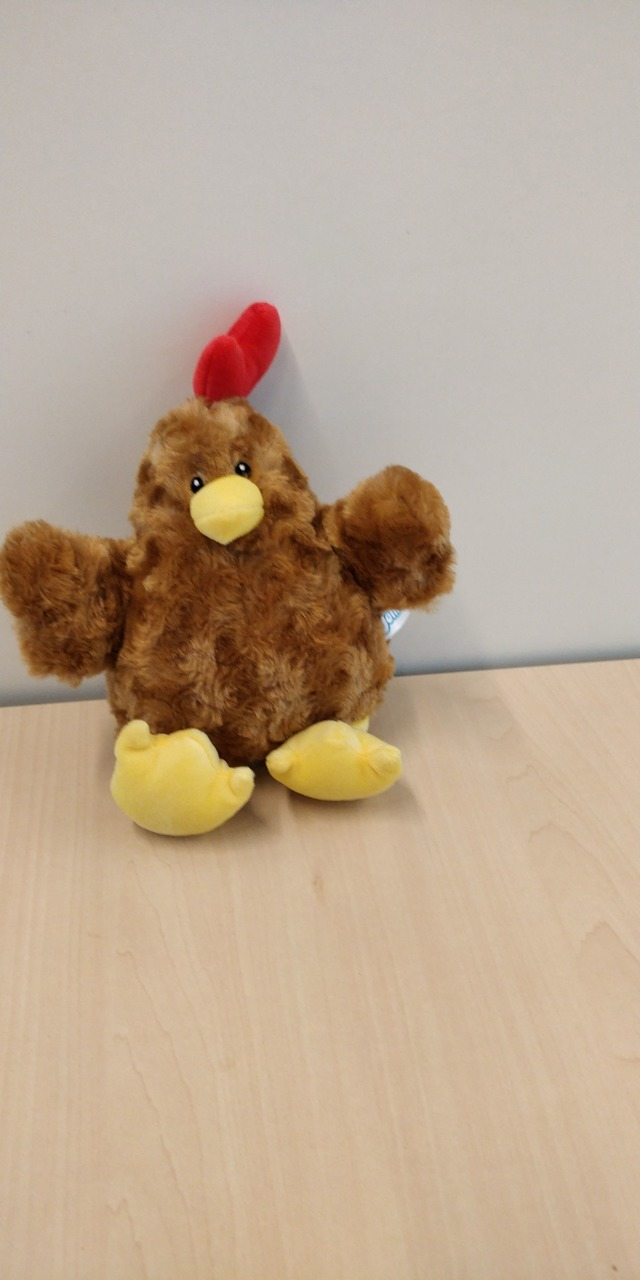fakeChicken: (3, 298, 465, 840)
